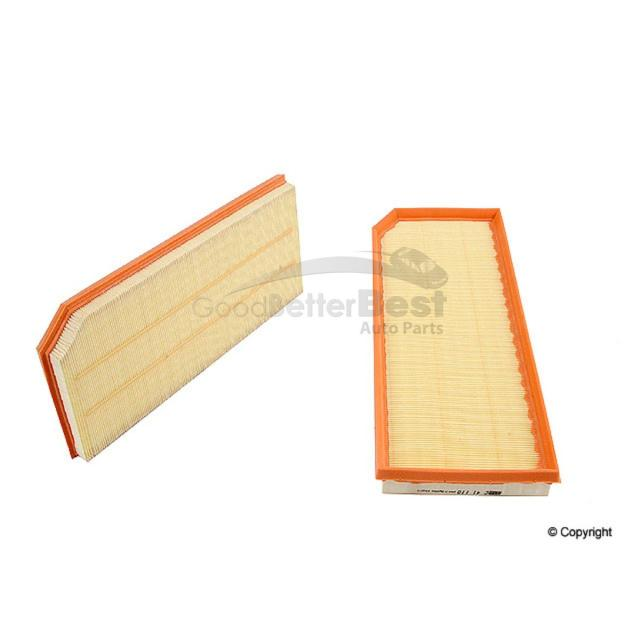air_filter: (0, 160, 308, 465), (366, 196, 567, 498)
